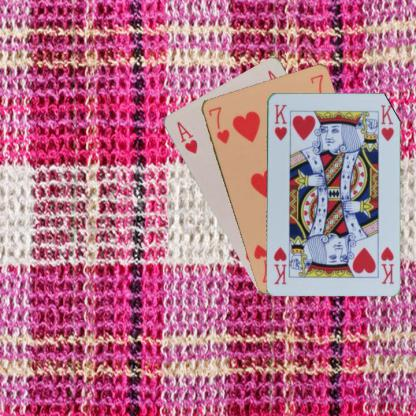7h: (205, 103, 231, 145)
Ah: (173, 118, 199, 156)
Kh: (378, 244, 394, 285), (272, 102, 288, 142)
